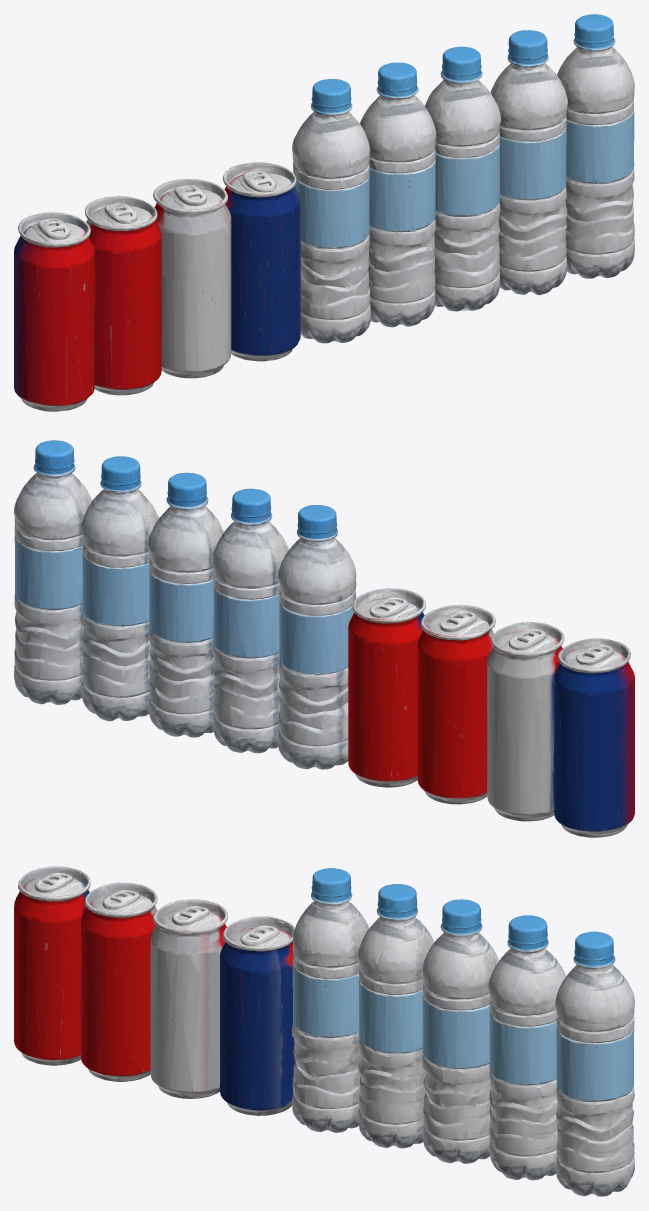
The model's file is remeshed-drinks-30000.glb.
The picture shows the model from 3 angles, top to bottom: view 1: azimuth 30°, elevation 25°; view 2: azimuth 150°, elevation 25°; view 3: azimuth 330°, elevation 25°; orthographic projection.
Visible parts, largest first — view 1: output_unwrapped; view 2: output_unwrapped; view 3: output_unwrapped.
Part boxes in pixels (x1=…): output_unwrapped: x1=14, y1=14, x2=634, y2=411; output_unwrapped: x1=14, y1=440, x2=634, y2=837; output_unwrapped: x1=14, y1=866, x2=634, y2=1196.
Bounding box in the file's own units: 1.9 × 0.734 × 0.2187.
1 material, 1 textured.
